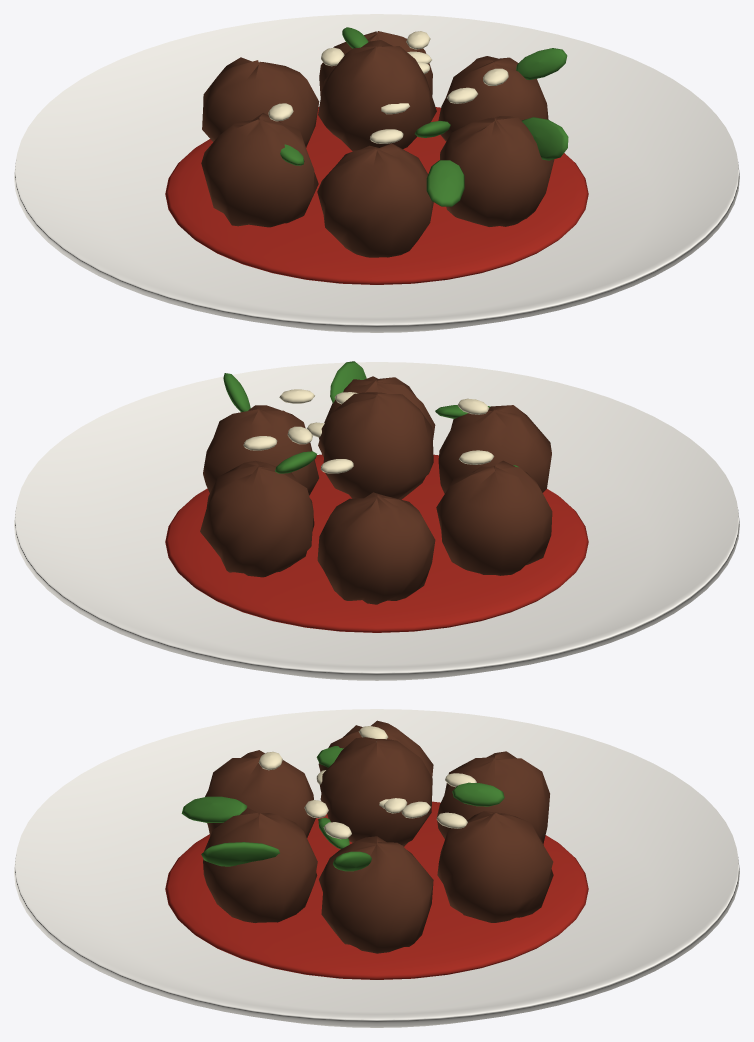
File: almondegas-da-casa.glb
3 views of the same model, one above another, from view 1: azimuth 30°, elevation 25°; view 2: azimuth 150°, elevation 25°; view 3: azimuth 270°, elevation 25° (orthographic).
Parts seen in each view (by area): view 1: almondegas-da-casa; view 2: almondegas-da-casa; view 3: almondegas-da-casa.
Part boxes in pixels (x1=…): almondegas-da-casa: x1=14, y1=14, x2=739, y2=332; almondegas-da-casa: x1=14, y1=361, x2=739, y2=680; almondegas-da-casa: x1=14, y1=709, x2=739, y2=1027.
Bounding box in the file's own units: 0.24 × 0.0701 × 0.24.
